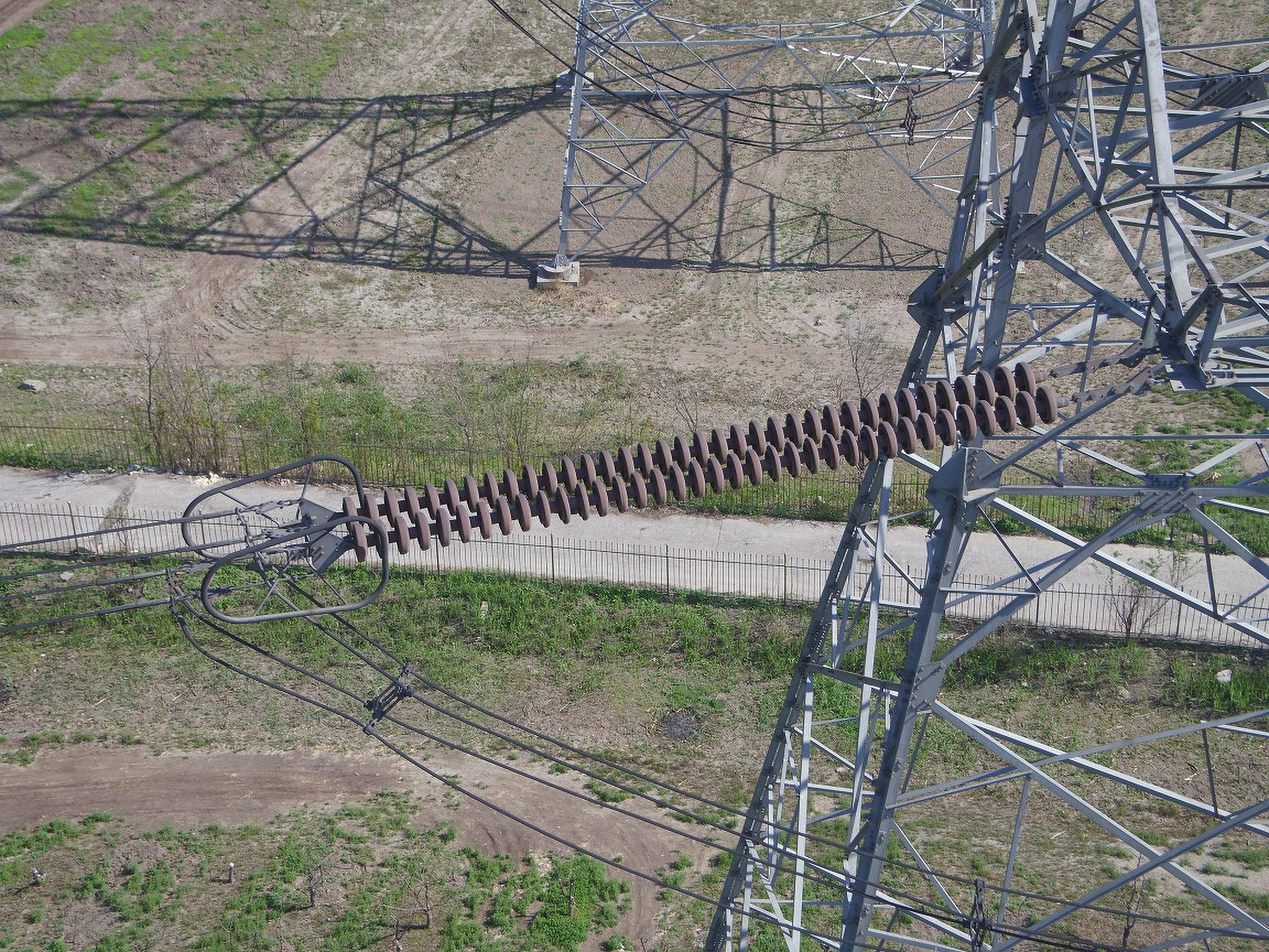insulator: (339, 359, 1061, 566)
